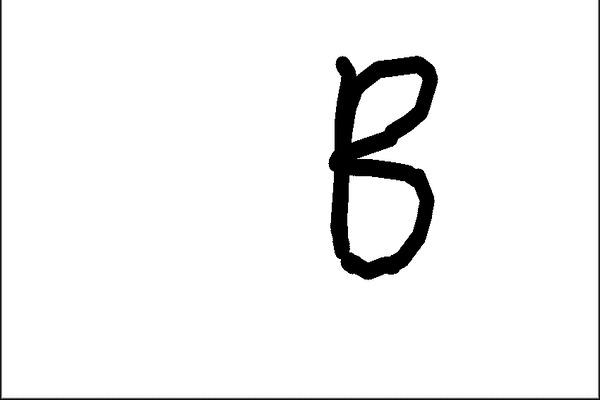B: (316, 43, 448, 285)
